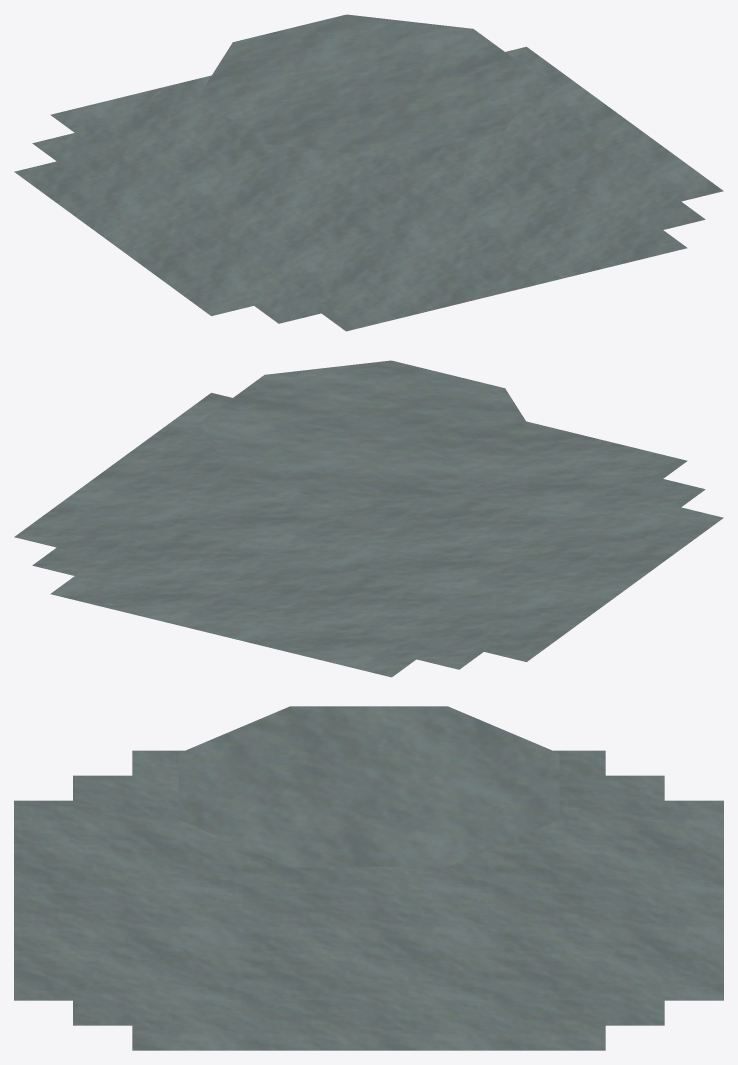
The model's file is water.fbx.
The picture shows the model from 3 angles, top to bottom: view 1: azimuth 30°, elevation 25°; view 2: azimuth 150°, elevation 25°; view 3: azimuth 270°, elevation 25°; orthographic projection. The views are drawn at different scales.
Parts seen in each view (by area): view 1: mesh_0; view 2: mesh_0; view 3: mesh_0.
Part boxes in pixels (box(x1,y1,x2,y2)): mesh_0: box(14, 14, 723, 331); mesh_0: box(14, 360, 723, 677); mesh_0: box(14, 706, 723, 1050).
Bounding box in the file's own units: 562 × 99.53 × 562.
1 material, 1 textured.
